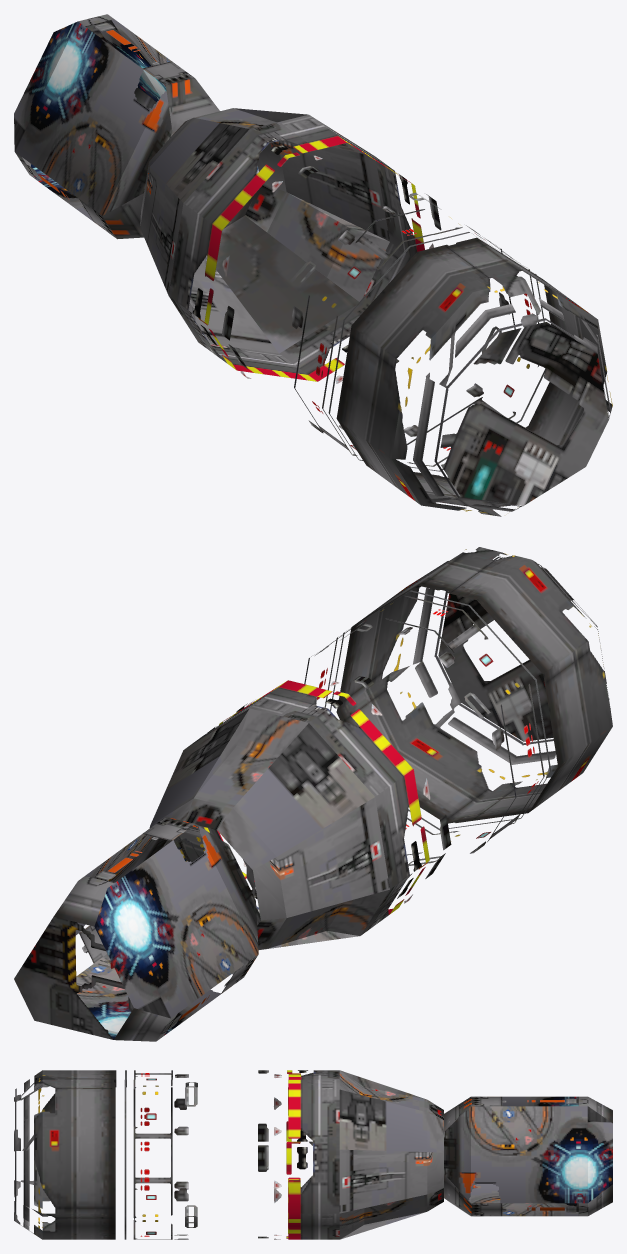
Rendered from LOD1-UVFlip.obj.
3 renders of one model, top to bottom at view 1: azimuth 30°, elevation 25°; view 2: azimuth 150°, elevation 25°; view 3: azimuth 270°, elevation 25°, orthographic. The views are drawn at different scales.
Visible parts, largest first — view 1: hw2Shader1; view 2: hw2Shader1; view 3: hw2Shader1.
Boxes of the visible parts, x1,y1,x2,y2 form: hw2Shader1: (14,14,612,516); hw2Shader1: (14,547,612,1041); hw2Shader1: (14,1070,612,1239).
Size of the model in its own units: 4.82 by 4.82 by 16.97.
